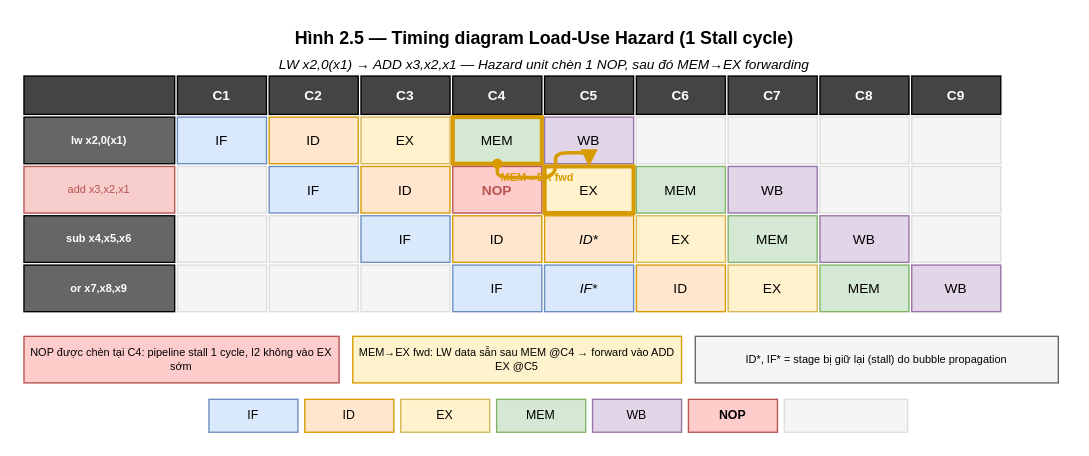
Some shapes in this 1089 by 456 pixel diagram are drawn without their labels. Here are the shapes that lost their labels. From the top down, the centre of each, then its label:
At pixel 99 94: "Instruction".
At pixel 845 415: "ID*/IF* (stall)".
